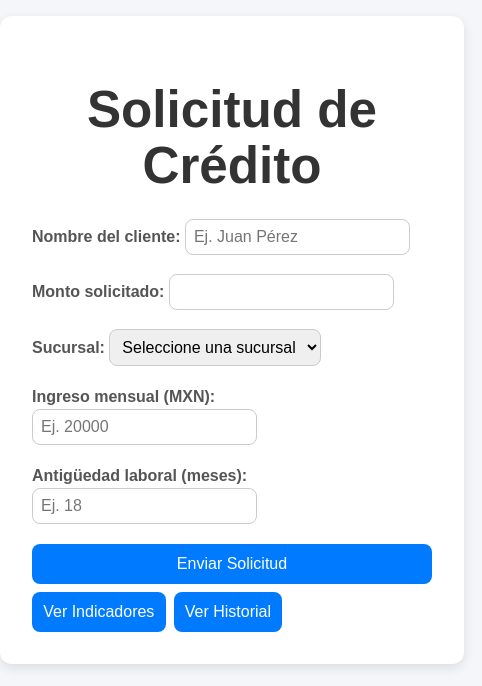
Test case: Flujo básico de App › envía el formulario y muestra pantalla de resultado
This screenshot has width=482, height=686.
# Llenar y enviar
Type "Juan Pérez" into the field labelled "Nombre del cliente:".
click(297, 237); type("Juan Pérez")  # box left=185, top=219, right=410, bottom=255
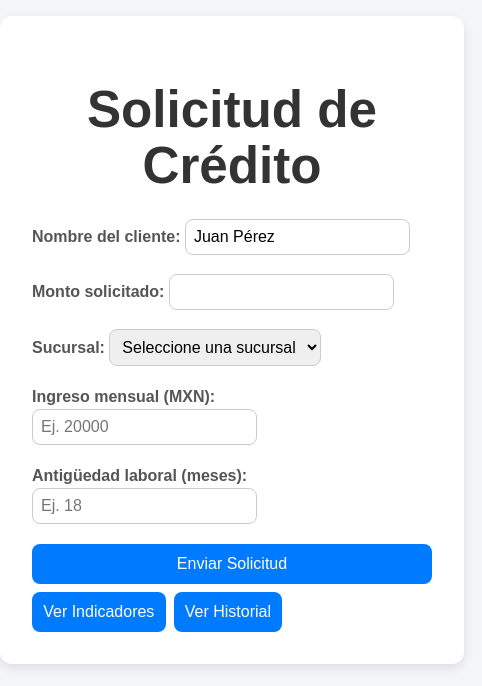
Type "4500" into the number field labelled "Monto solicitado:".
click(281, 292); type("4500")  # box left=169, top=274, right=394, bottom=310
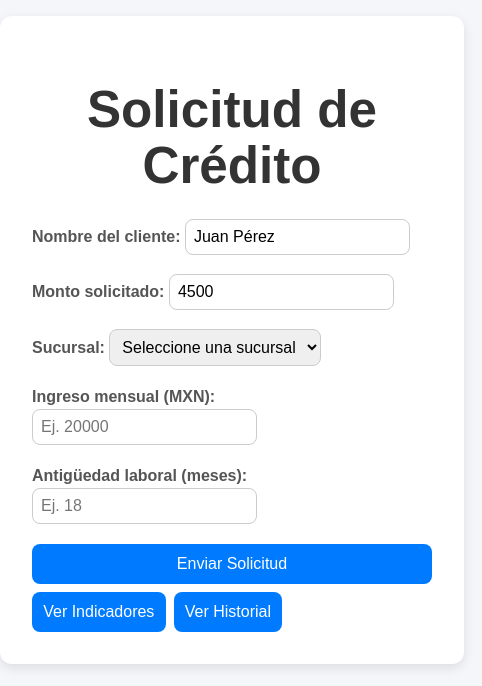
Click the button "Enviar Solicitud".
click(232, 564)  # box left=32, top=544, right=432, bottom=584
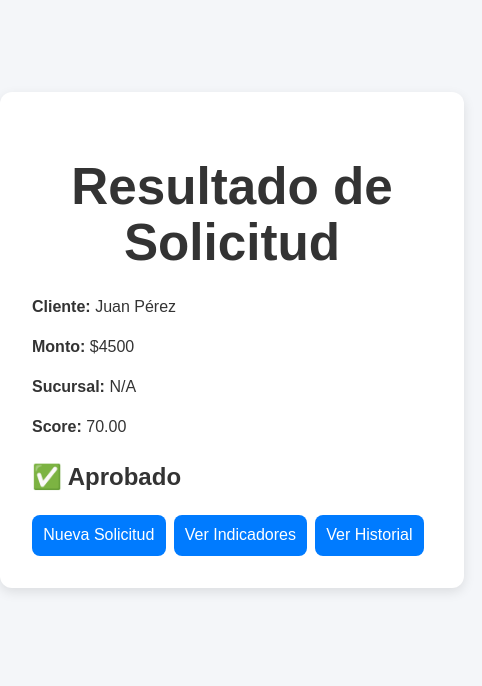
Expected: the heading "Resultado de Solicitud" is shown, left=71, top=158, right=393, bottom=271
Expected: the heading "✅ Aprobado" is shown, left=32, top=463, right=181, bottom=490
Expected: the text "Score:" is shown, left=32, top=418, right=82, bottom=435
